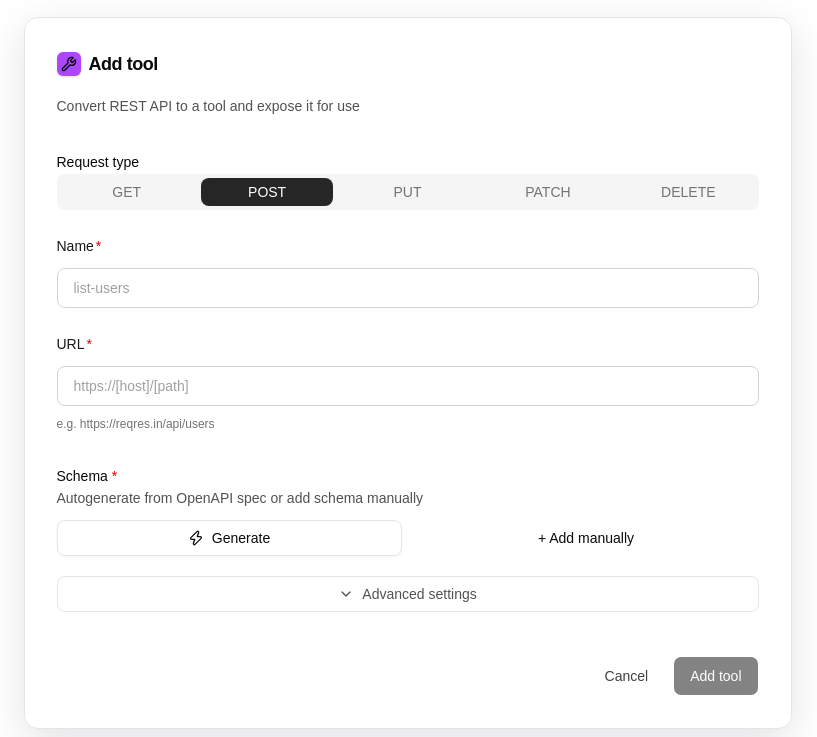
Test case: ToolForm › Accessibility – schema textareas › links Input schema textarea to its label after clicking Add manually
Click the button "+ Add manually" at (586, 538), box [414,520,758,556]
(page scrolled)
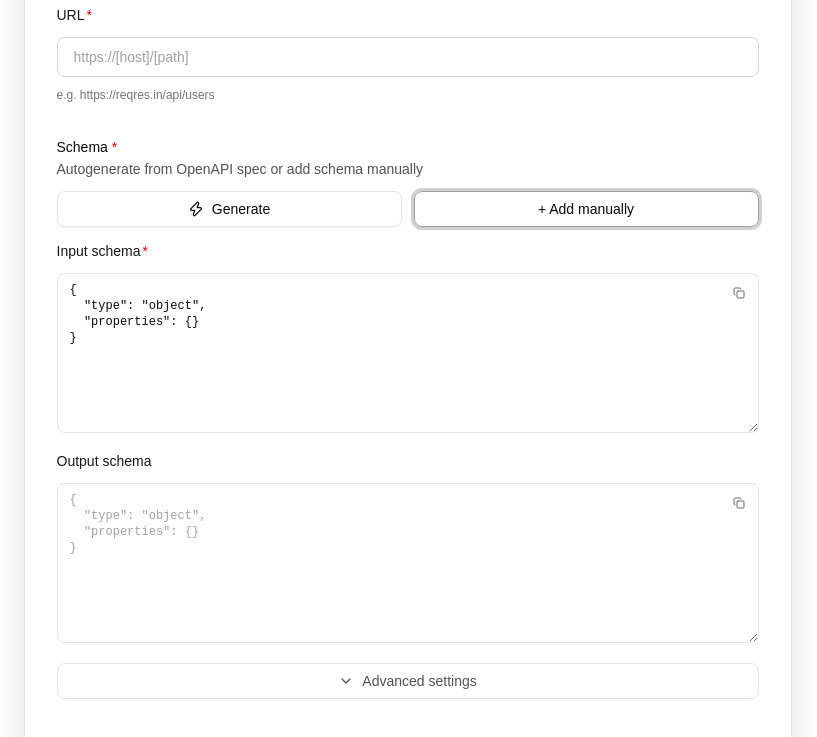
Expected: the text box labelled "Input schema *" is shown, [56,273,758,433]
